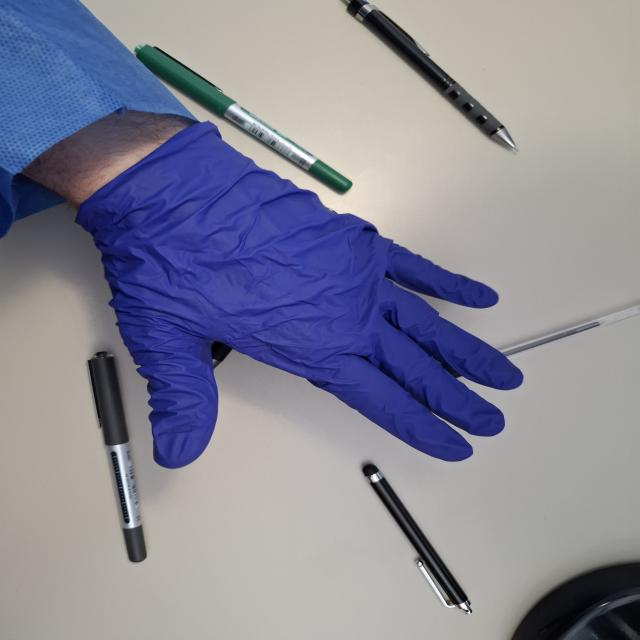glove_on: (70, 116, 531, 472)
